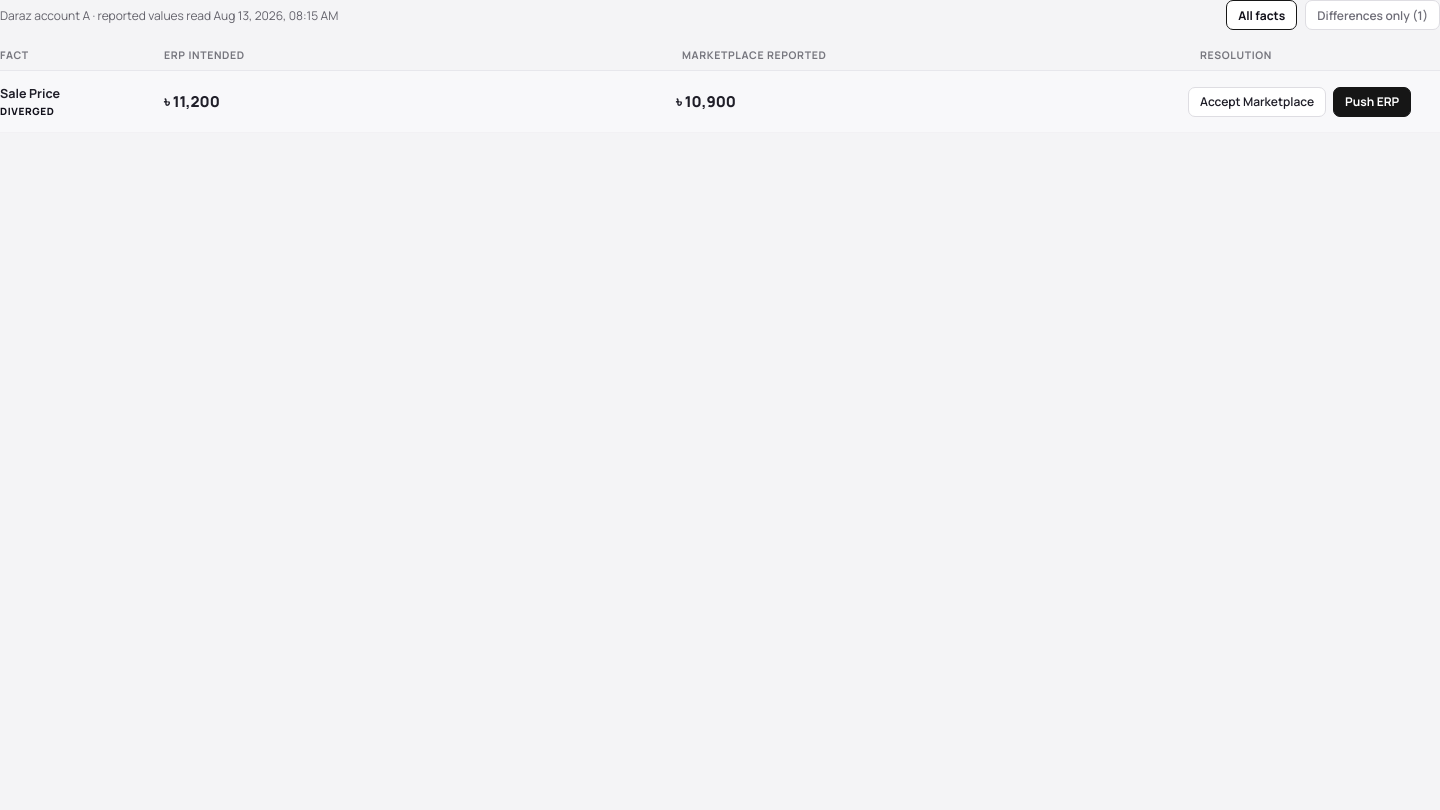
Frame 08 — Resolution dialogs › states what Accept Marketplace does NOT change
Click the button with test id "comparison-accept-sale_price".
click(1257, 102)  # box [1188,86,1326,116]
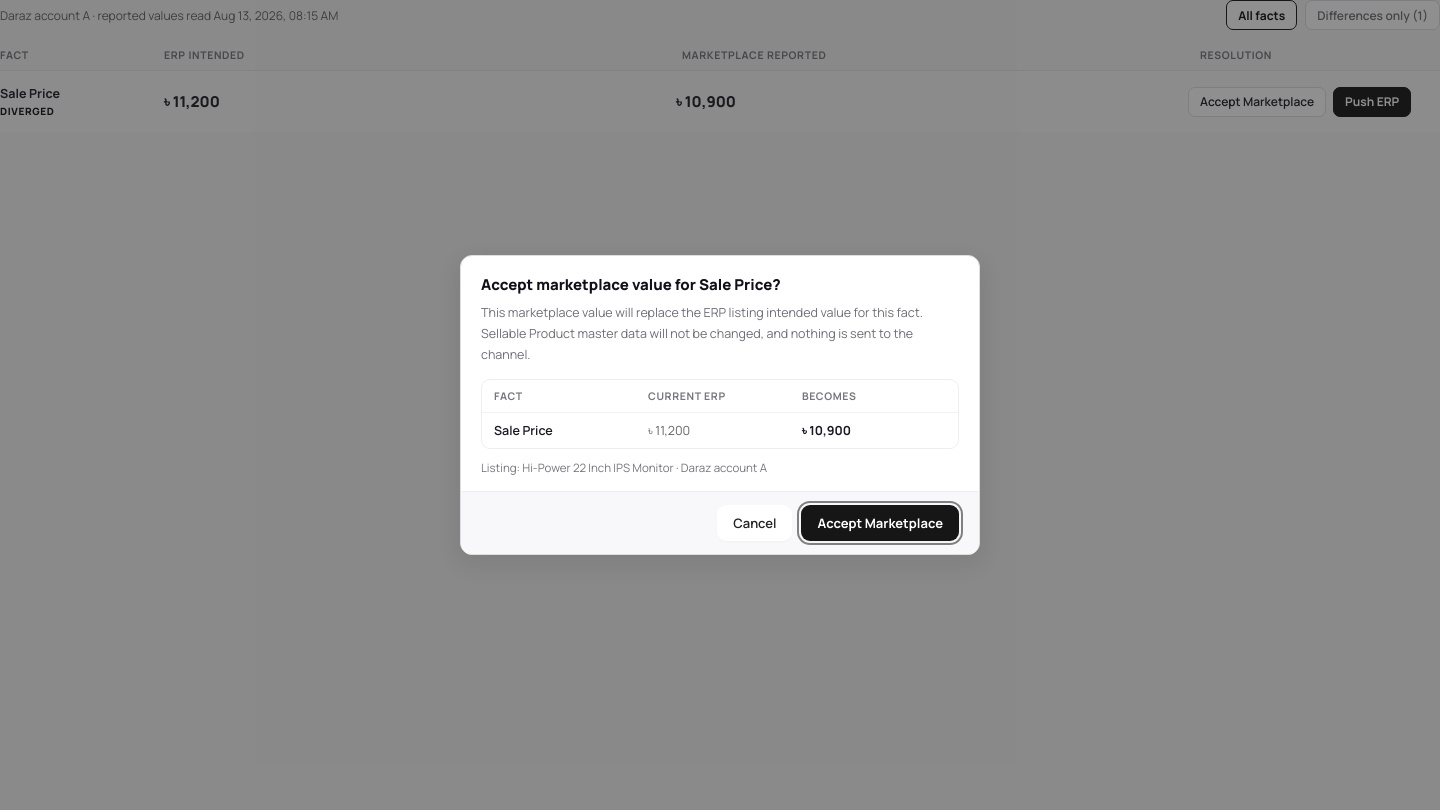
Now the dialog with test id "accept-marketplace-dialog" shows "Sellable Product master data will not be changed", box [481,304,923,363]
Now the dialog with test id "accept-marketplace-dialog" shows "nothing is sent to the channel", box [481,304,923,363]
